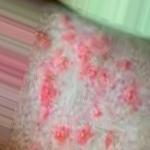Ants: (76, 33, 118, 120), (39, 69, 58, 122), (117, 81, 143, 113), (60, 15, 77, 44), (76, 124, 93, 149), (51, 53, 70, 73), (53, 125, 71, 143), (37, 32, 50, 49), (117, 58, 132, 72), (104, 131, 113, 149)
